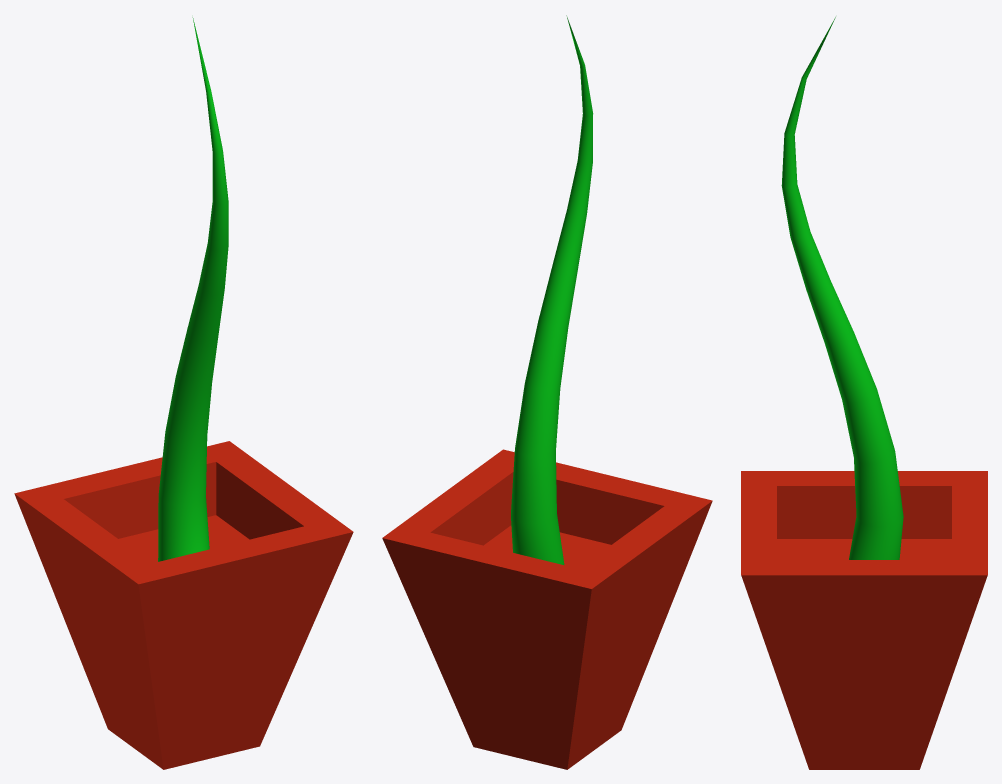
File: prantinha 01_000016.obj
3 views of the same model, side by side, from view 1: azimuth 30°, elevation 25°; view 2: azimuth 150°, elevation 25°; view 3: azimuth 270°, elevation 25° (orthographic). The views are drawn at different scales.
Parts seen in each view (by area): view 1: Cube, NurbsPath; view 2: Cube, NurbsPath; view 3: Cube, NurbsPath.
Boxes of the visible parts, left/top/right/bottom form: Cube: left=14, top=441, right=353, bottom=769; NurbsPath: left=158, top=17, right=228, bottom=561; Cube: left=382, top=449, right=712, bottom=769; NurbsPath: left=511, top=15, right=593, bottom=564; Cube: left=741, top=471, right=987, bottom=769; NurbsPath: left=781, top=17, right=903, bottom=559.
Bounding box in the file's own units: 1.04 × 3.4 × 1.04.
